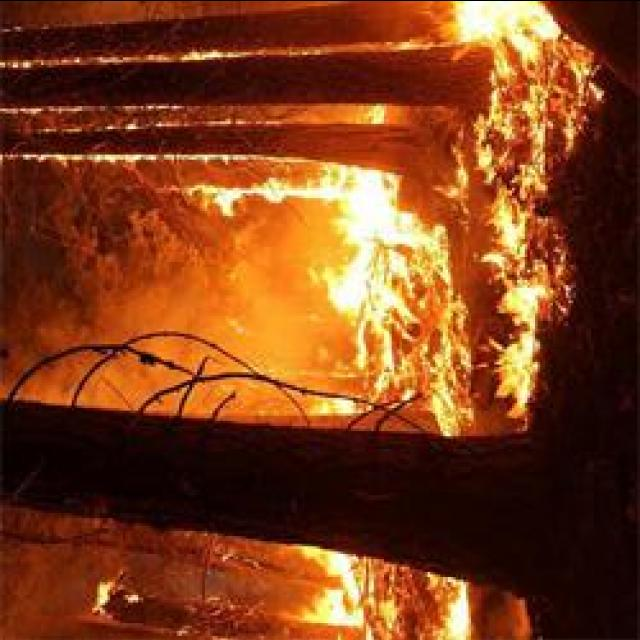fire: (284, 545, 474, 640), (314, 163, 410, 320), (482, 211, 544, 419), (436, 1, 556, 43)
smoke: (140, 262, 328, 406)
